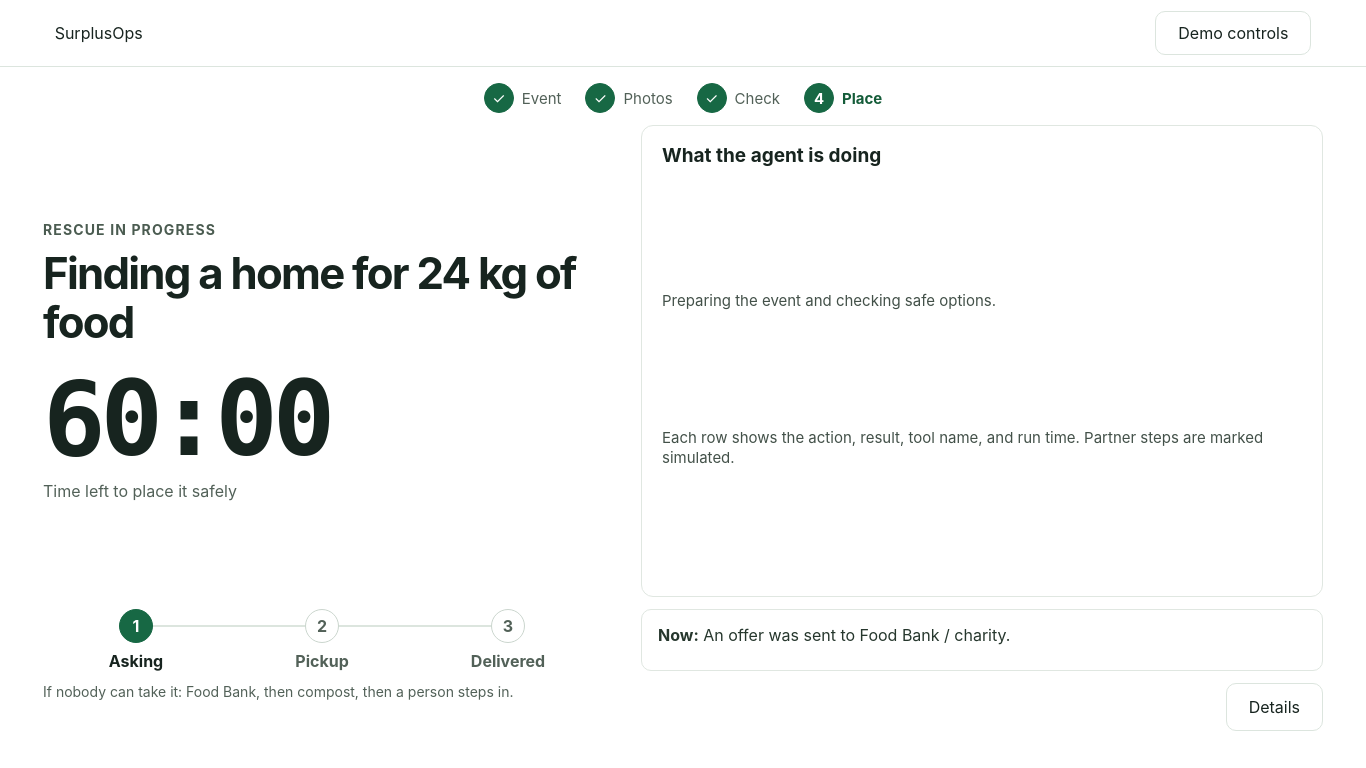
Scenario: ConsolePage three-state presentation › does not repeat scenario-selection noise in the Details timeline
What coordinates should you click on to do the following:
click the button "Details"
I would click on:
 (1274, 707)
Its box is [1226, 683, 1323, 731].
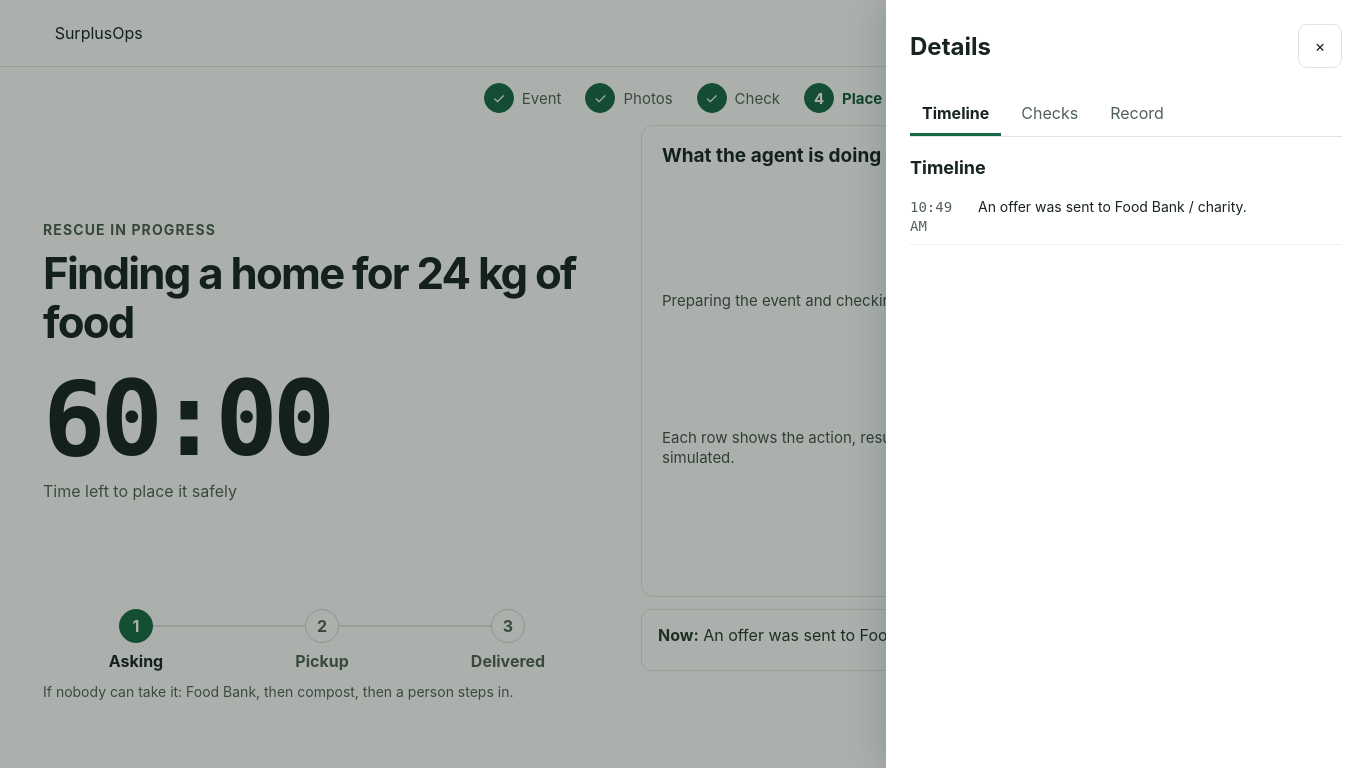
Result: the text "An offer was sent to Food Bank / charity." is shown at [978, 198, 1247, 215]
